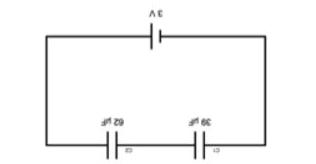Capacitor: (177, 127, 211, 162)
